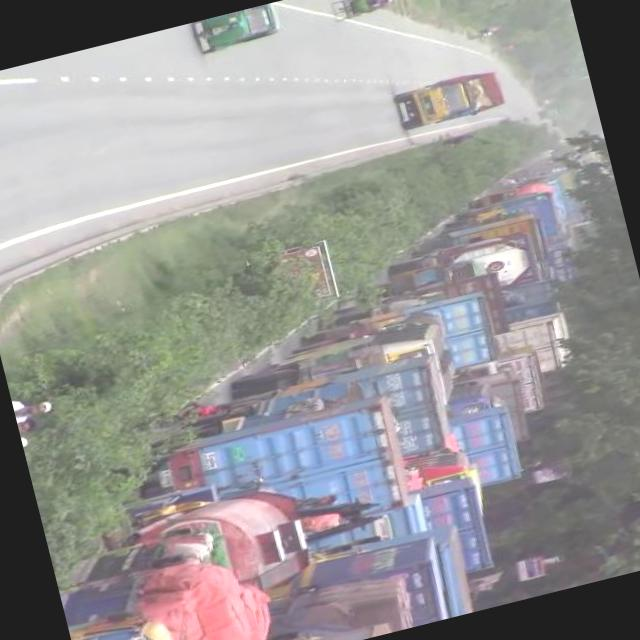motorcycle: (191, 4, 283, 56), (331, 0, 394, 23)
truck: (142, 390, 412, 562), (230, 330, 440, 416), (196, 367, 367, 438), (395, 67, 510, 133), (387, 230, 532, 282), (419, 212, 538, 255), (445, 190, 557, 232)
